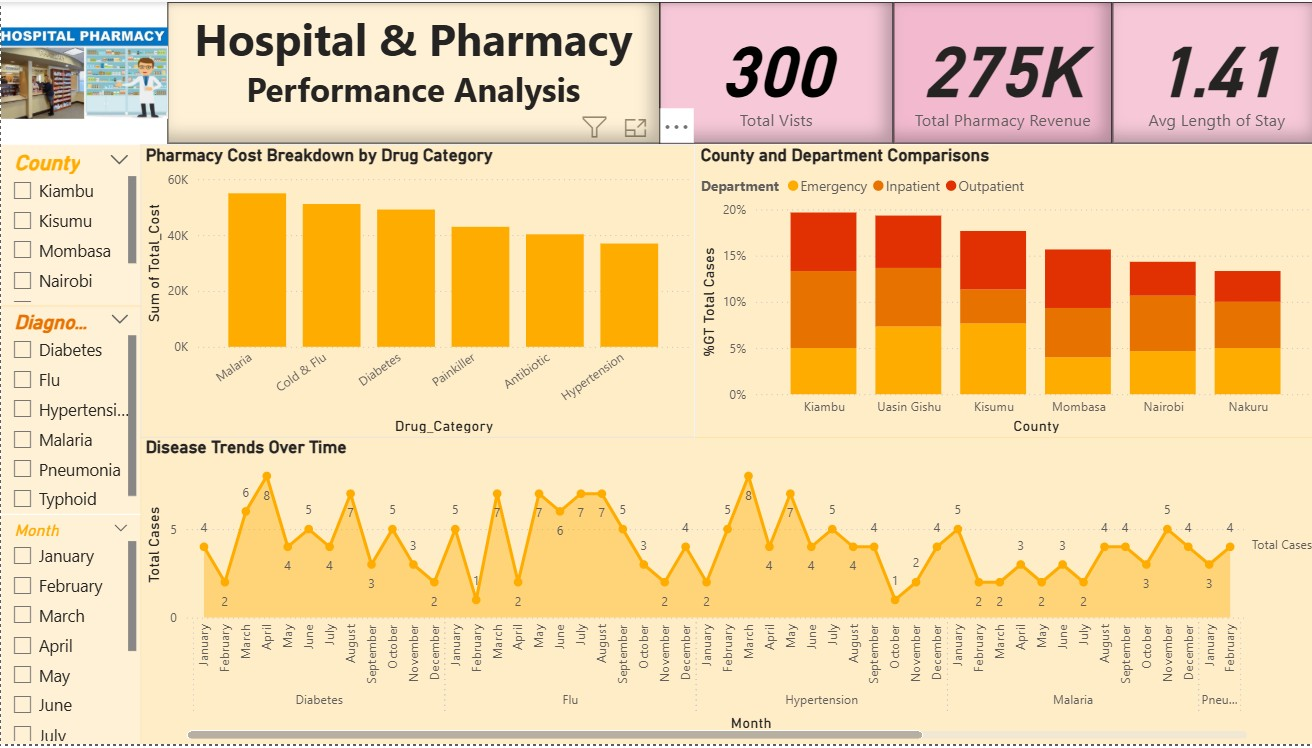

Layout of this report page (visuals, bound fields, positions):
{"tool":"powerbi","page":{"name":"Executive Dashboard","canvas":[1280,720],"ordinal":10},"visuals":[{"type":"slicer","fields":{"Values":["Visits.Visit_Date.Variation.Date Hierarchy.Month"]},"box":[0,497.1,136,223.5],"z":0},{"type":"slicer","fields":{"Values":["Visits.Diagnosis"]},"box":[0,294.7,136,202.4],"z":1000},{"type":"slicer","fields":{"Values":["Patients.County"]},"box":[0,137.6,136,157.1],"z":2000},{"type":"card","title":"TotaL Visits","fields":{"Values":["CountNonNull(Visits.Visit_ID)"]},"box":[639.6,0,226.7,137.6],"z":3000},{"type":"card","fields":{"Values":["Patients.Total Pharmacy Revenue"]},"box":[866.3,0,212.1,137.6],"z":4000},{"type":"card","fields":{"Values":["Patients.Avg Length of Stay"]},"box":[1078.4,0,202.4,137.6],"z":5000},{"type":"lineChart","title":"Disease Trends Over Time","fields":{"Y":["Patients.Total Cases"],"Category":["Visits.Diagnosis","Visits.Visit_Date.Variation.Date Hierarchy.Month"]},"box":[136,422.6,1144.8,297.9],"z":6000},{"type":"clusteredColumnChart","title":"Pharmacy Cost Breakdown by Drug Category","fields":{"Category":["Pharmacy_Transactions.Drug_Category"],"Y":["Sum(Pharmacy_Transactions.Total_Cost)"]},"box":[136,137.6,537.6,285],"z":7000},{"type":"columnChart","title":"County and Department Comparisons","fields":{"Category":["Patients.County"],"Series":["Visits.Department"],"Y":["Patients.Total Cases"]},"box":[673.6,137.6,607.2,285],"z":8000},{"type":"textbox","box":[161.9,0,477.7,137.6],"z":9000},{"type":"image","box":[0,0,161.9,137.6],"z":10000}]}

Visuals, with their boxes in screenshot pixels (x1, y1, x2, y2), scaled from the page's 1280x720 canvas onto the 1312x748 screenshot:
slicer - Visits.Visit_Date.Variation.Date Hierarchy.Month: <region>0, 516, 139, 747</region>
slicer - Visits.Diagnosis: <region>0, 306, 139, 516</region>
slicer - Patients.County: <region>0, 143, 139, 306</region>
"TotaL Visits" card: <region>656, 0, 888, 143</region>
card - Patients.Total Pharmacy Revenue: <region>888, 0, 1105, 143</region>
card - Patients.Avg Length of Stay: <region>1105, 0, 1311, 143</region>
"Disease Trends Over Time" lineChart: <region>139, 439, 1311, 747</region>
"Pharmacy Cost Breakdown by Drug Category" clusteredColumnChart: <region>139, 143, 690, 439</region>
"County and Department Comparisons" columnChart: <region>690, 143, 1311, 439</region>
textbox: <region>166, 0, 656, 143</region>
image: <region>0, 0, 166, 143</region>
